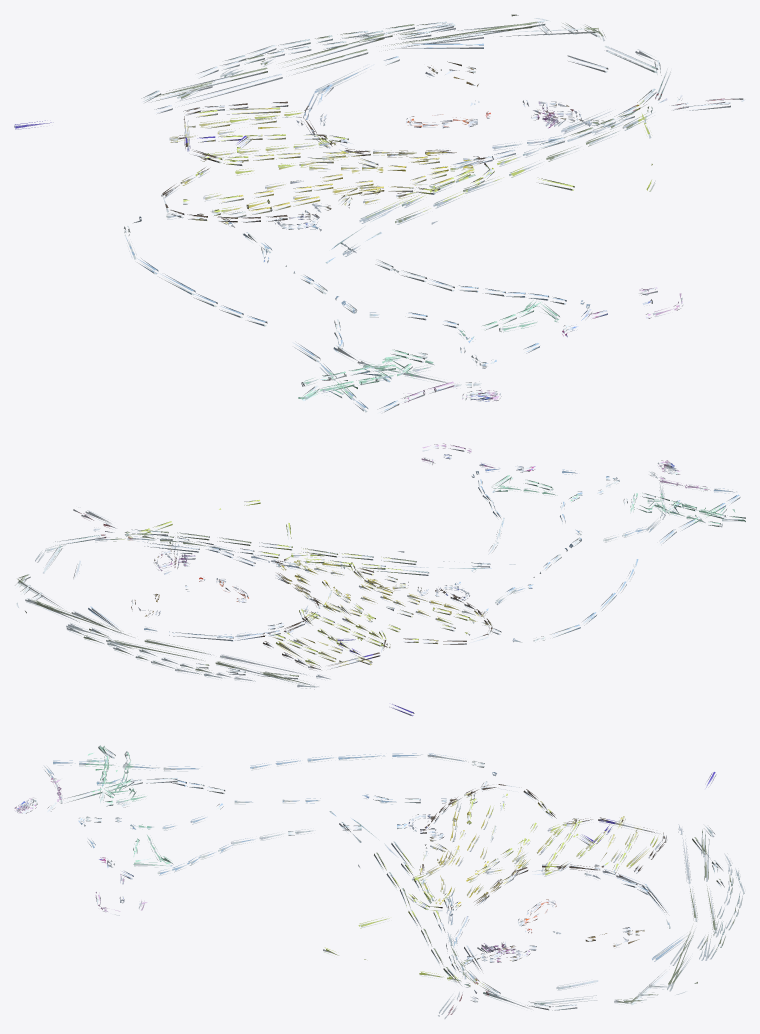
Rendered from Yuting.glb.
3 views of the same model, one above another, from view 1: azimuth 30°, elevation 25°; view 2: azimuth 150°, elevation 25°; view 3: azimuth 270°, elevation 25° (orthographic). The views are drawn at different scales.
Visible parts, largest first — view 1: node_id4; view 2: node_id4; view 3: node_id4.
Part boxes in pixels (x1,y1,x2,y2): node_id4: (14,14,745,412); node_id4: (15,443,745,716); node_id4: (14,745,744,1019).
Size of the model in its own units: 0.2542 by 0.00208 by 0.2878.
1 material, 1 textured.
